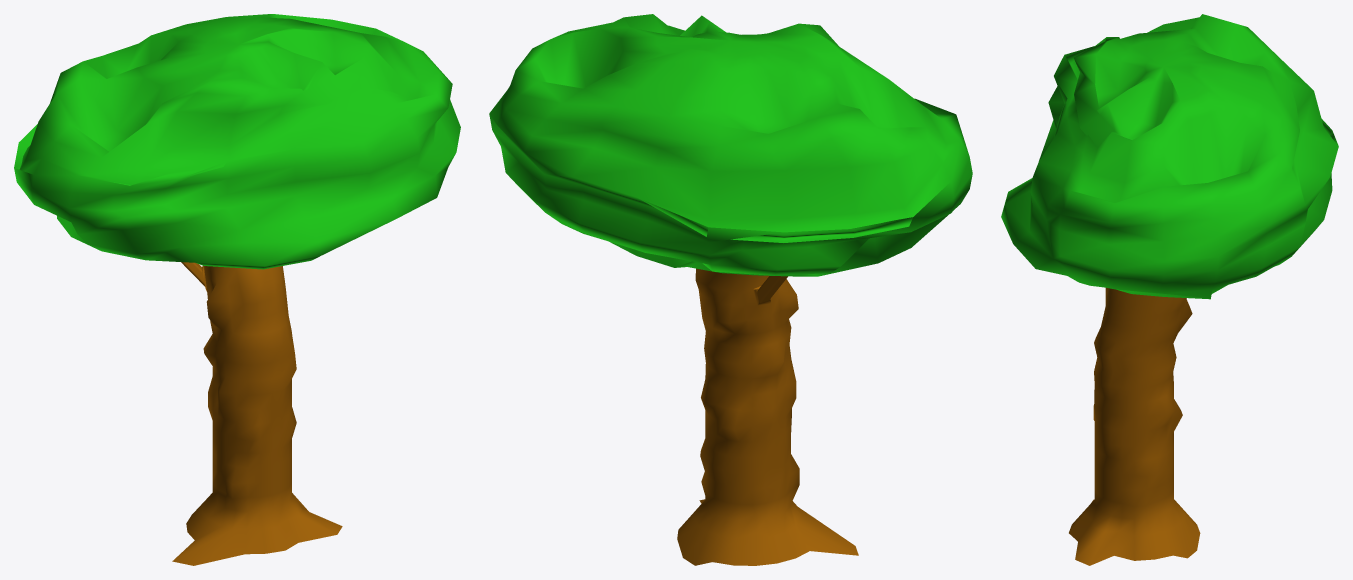
Rendered from regtree.fbx.
3 views of the same model, side by side, from view 1: azimuth 30°, elevation 25°; view 2: azimuth 150°, elevation 25°; view 3: azimuth 270°, elevation 25° (orthographic). The views are drawn at different scales.
Parts seen in each view (by area): view 1: sculptor3; view 2: sculptor3; view 3: sculptor3.
Boxes of the visible parts, x1,y1,x2,y2 form: sculptor3: (14, 14, 460, 565); sculptor3: (489, 14, 972, 565); sculptor3: (1001, 14, 1338, 565).
Bounding box in the file's own units: 11.98 × 13.26 × 8.52.
Materials: 1 (1 with a texture image).
